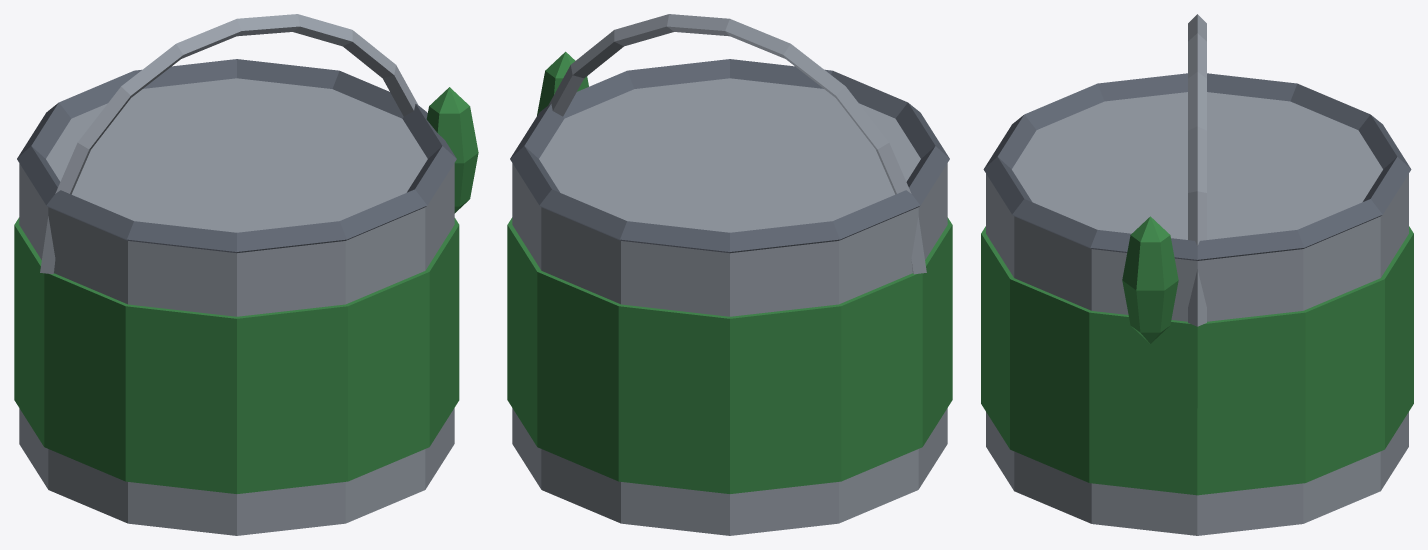
Rendered from Paint_Can.fbx.
3 renders of one model, left to right at view 1: azimuth 30°, elevation 25°; view 2: azimuth 150°, elevation 25°; view 3: azimuth 270°, elevation 25°, orthographic. The views are drawn at different scales.
Visible parts, largest first — view 1: Paint_Can; view 2: Paint_Can; view 3: Paint_Can.
Part boxes in pixels (x1=…): Paint_Can: x1=14, y1=14, x2=478, y2=535; Paint_Can: x1=507, y1=14, x2=952, y2=535; Paint_Can: x1=981, y1=14, x2=1413, y2=535.
Size of the model in its own units: 0.1944 by 0.194 by 0.184.
1 material, 1 textured.
